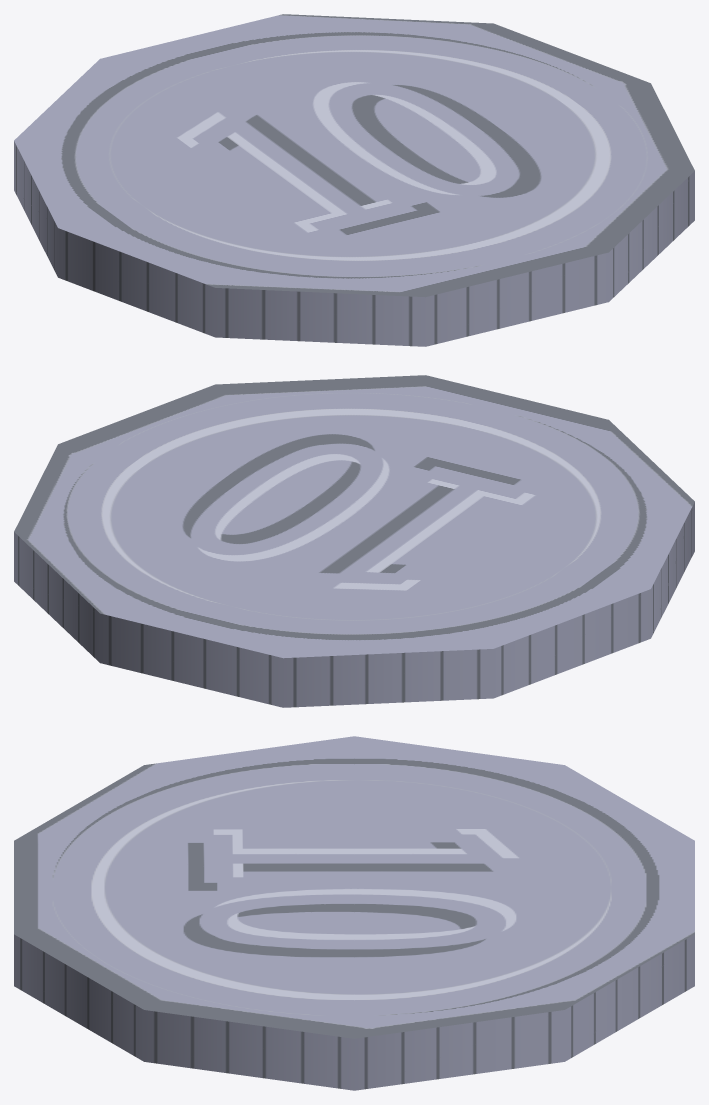
Rendered from Coin_04.FBX.
The picture shows the model from 3 angles, top to bottom: view 1: azimuth 30°, elevation 25°; view 2: azimuth 150°, elevation 25°; view 3: azimuth 270°, elevation 25°; orthographic projection. The views are drawn at different scales.
Parts seen in each view (by area): view 1: Coin_01; view 2: Coin_01; view 3: Coin_01.
Part boxes in pixels (x1,y1,x2,y2): Coin_01: [14, 14, 694, 346]; Coin_01: [14, 375, 694, 707]; Coin_01: [14, 736, 694, 1090].
Size of the model in its own units: 25 by 2 by 23.78.
1 material, 1 textured.
